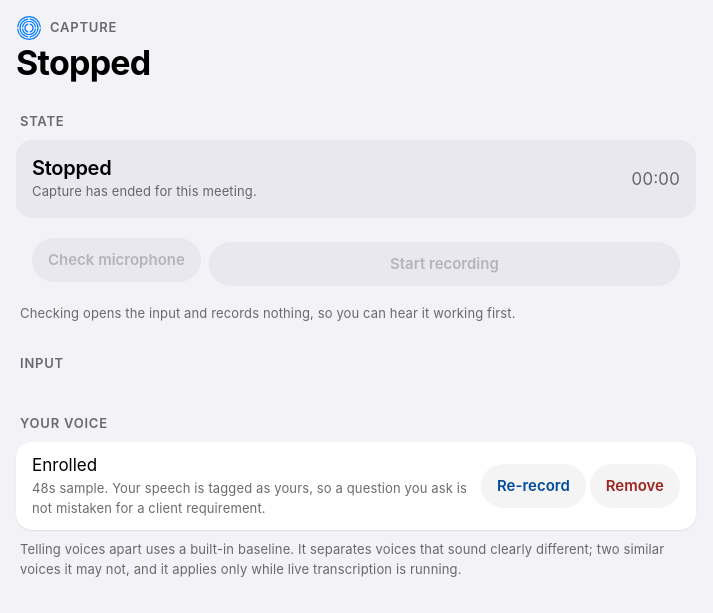
the "Your voice" section › keeps the print when the question is answered the other way
Click the button "Remove". click: {"x": 635, "y": 486}
box: [590,464,680,508]
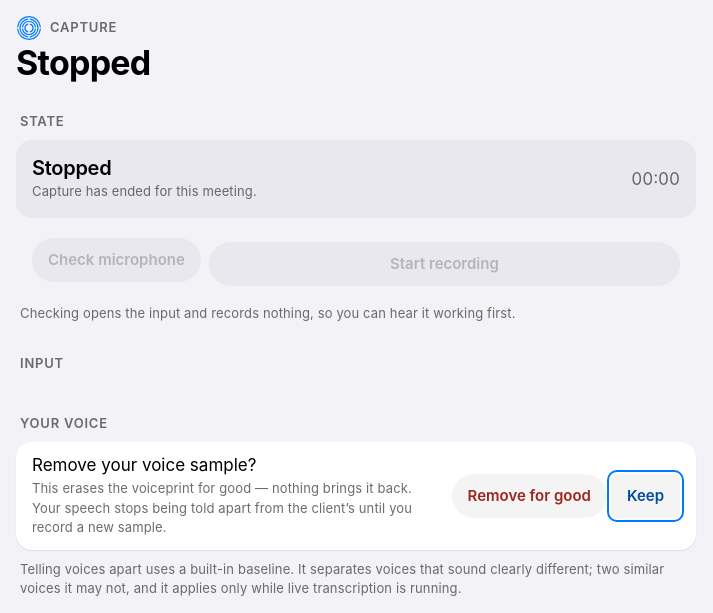
Click the button "Keep". click: {"x": 645, "y": 496}
box: [611,474,680,518]
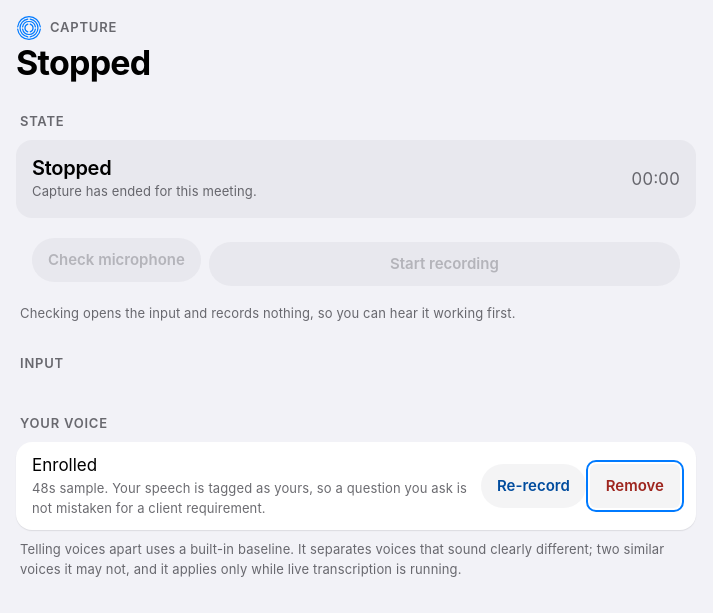
expect the button "Re-record" is shown: met, box [481,464,586,508]
